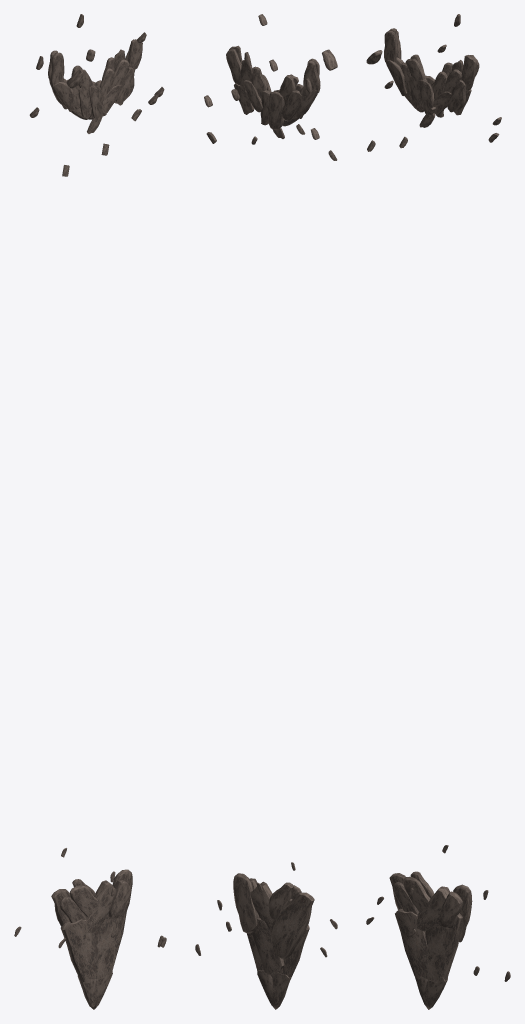
File: GoldSpearRock.FBX
3 views of the same model, side by side, from view 1: azimuth 30°, elevation 25°; view 2: azimuth 150°, elevation 25°; view 3: azimuth 330°, elevation 25° (orthographic).
Parts seen in each view (by area): view 1: Gold Rock; view 2: Gold Rock; view 3: Gold Rock.
Part boxes in pixels (box(x1,y1,x2,y2)): Gold Rock: box(14, 14, 166, 1009); Gold Rock: box(195, 14, 337, 1009); Gold Rock: box(366, 14, 510, 1009).
Size of the model in its own units: 2.42 by 16.05 by 1.62.
